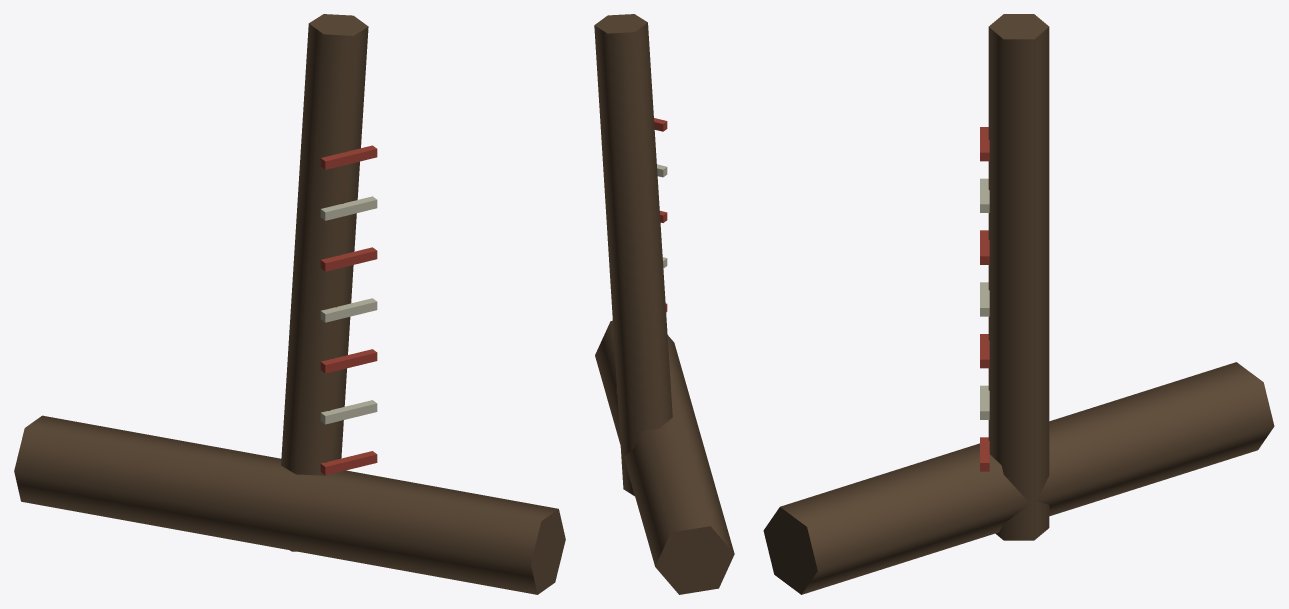
The model's file is flood-gauge.glb.
3 views of the same model, side by side, from view 1: azimuth 30°, elevation 25°; view 2: azimuth 150°, elevation 25°; view 3: azimuth 270°, elevation 25° (orthographic). The views are drawn at different scales.
Parts seen in each view (by area): view 1: flood-gauge; view 2: flood-gauge; view 3: flood-gauge.
Part boxes in pixels (x1,y1,x2,y2): flood-gauge: (14, 14, 565, 594); flood-gauge: (594, 14, 734, 594); flood-gauge: (763, 14, 1274, 594).
Size of the model in its own units: 1.09 by 1.51 by 1.34.
